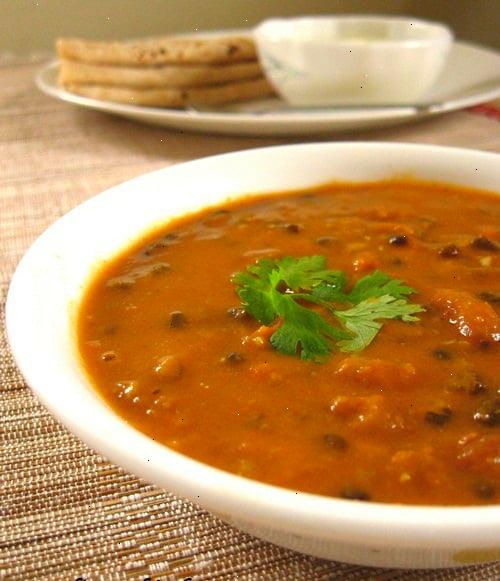rajma: (120, 174, 500, 496)
